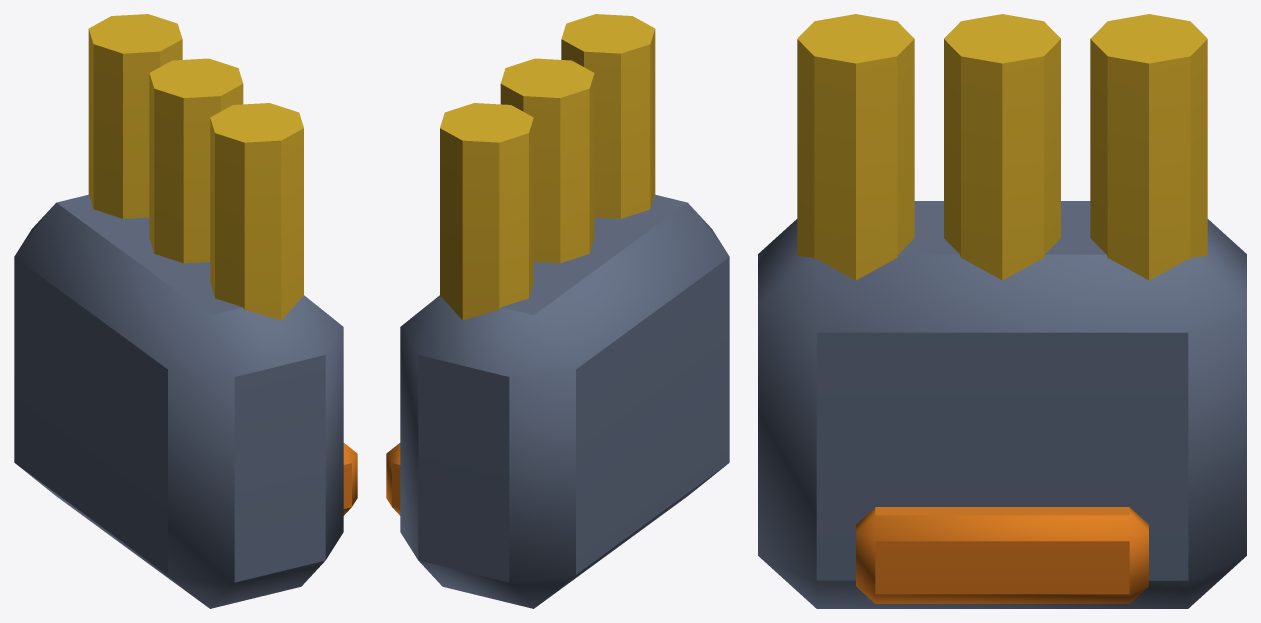
The model's file is mod_loader.glb.
The picture shows the model from 3 angles, left to right: view 1: azimuth 30°, elevation 25°; view 2: azimuth 150°, elevation 25°; view 3: azimuth 270°, elevation 25°; orthographic projection. The views are drawn at different scales.
Parts seen in each view (by area): view 1: body; view 2: body; view 3: body.
Boxes of the visible parts, x1,y1,x2,y2 form: body: (14,14,357,608); body: (386,14,729,608); body: (758,14,1246,608).
Bounding box in the file's own units: 0.061 × 0.125 × 0.1.
